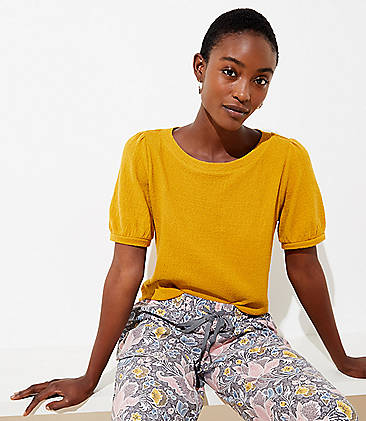C_T-shirt: (106, 126, 326, 321)
